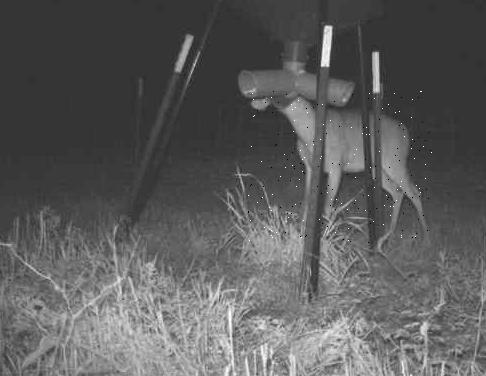Deer: (247, 92, 432, 244)
